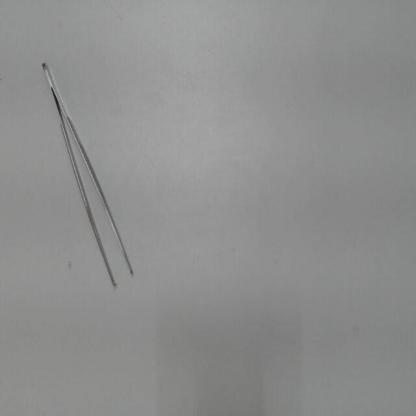Gillies Toothed Dissector: (36, 48, 144, 300)
